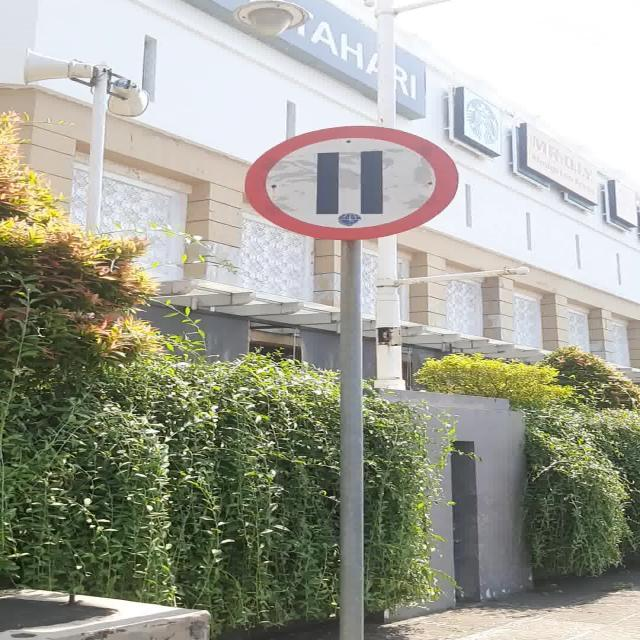Larangan Muatan - 10 ton: (245, 125, 459, 240)
